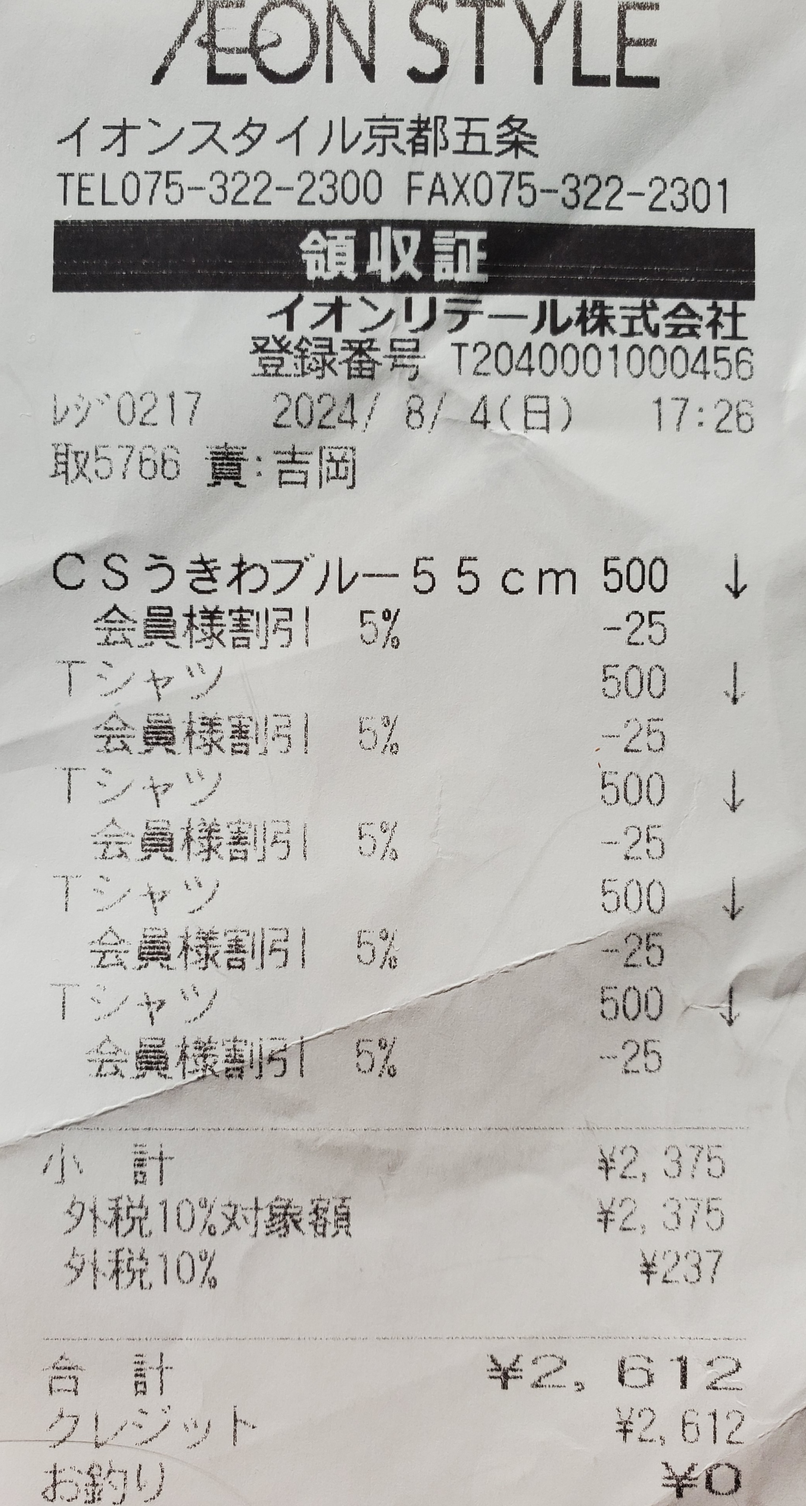Date: (248, 383, 504, 440)
Shopname: (114, 4, 689, 95)
Telnum: (120, 165, 395, 212)
Totalpay: (34, 1345, 765, 1408)
